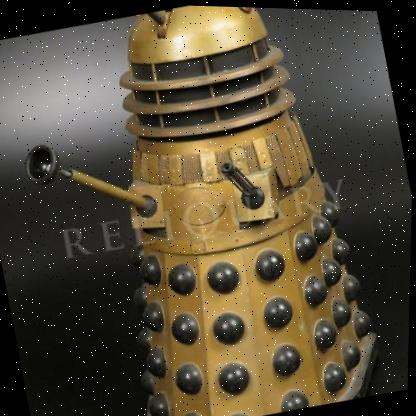dalek: (0, 0, 409, 416)
